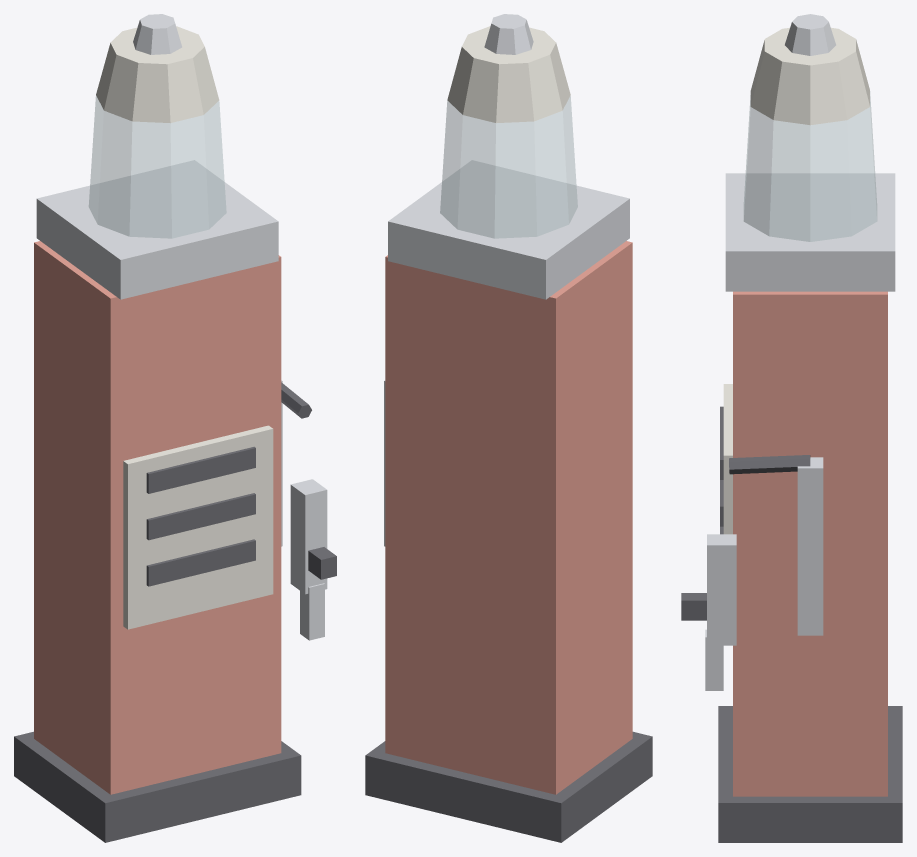
File: retro-diner-and-roadside-motel-period-fuel-pump-e5272bb8__37365.glb
3 views of the same model, side by side, from view 1: azimuth 30°, elevation 25°; view 2: azimuth 150°, elevation 25°; view 3: azimuth 270°, elevation 25° (orthographic).
Visible parts, largest first — view 1: period-fuel-pump-coral, period-fuel-pump-cream, period-fuel-pump-chrome, period-fuel-pump-asphalt, period-fuel-pump-glass, nozzle/chrome, nozzle/asphalt; view 2: period-fuel-pump-coral, period-fuel-pump-chrome, period-fuel-pump-glass, period-fuel-pump-asphalt, period-fuel-pump-cream; view 3: period-fuel-pump-coral, period-fuel-pump-chrome, period-fuel-pump-glass, period-fuel-pump-asphalt, period-fuel-pump-cream, nozzle/chrome, nozzle/asphalt.
Part boxes in pixels (x1=…): period-fuel-pump-coral: x1=34, y1=241, x2=281, y2=794; period-fuel-pump-cream: x1=96, y1=26, x2=273, y2=629; period-fuel-pump-chrome: x1=36, y1=14, x2=282, y2=546; period-fuel-pump-asphalt: x1=14, y1=382, x2=311, y2=842; period-fuel-pump-glass: x1=89, y1=96, x2=226, y2=238; nozzle/chrome: x1=290, y1=479, x2=327, y2=640; nozzle/asphalt: x1=308, y1=547, x2=336, y2=579; period-fuel-pump-coral: x1=385, y1=241, x2=632, y2=794; period-fuel-pump-chrome: x1=384, y1=14, x2=629, y2=546; period-fuel-pump-glass: x1=440, y1=96, x2=577, y2=238; period-fuel-pump-asphalt: x1=365, y1=731, x2=652, y2=842; period-fuel-pump-cream: x1=447, y1=26, x2=570, y2=123; period-fuel-pump-coral: x1=733, y1=291, x2=887, y2=796; period-fuel-pump-chrome: x1=725, y1=14, x2=895, y2=635; period-fuel-pump-glass: x1=744, y1=96, x2=876, y2=241; period-fuel-pump-asphalt: x1=718, y1=406, x2=902, y2=842; period-fuel-pump-cream: x1=723, y1=27, x2=869, y2=534; nozzle/chrome: x1=705, y1=534, x2=736, y2=690; nozzle/asphalt: x1=681, y1=593, x2=706, y2=620.
Size of the model in its own units: 0.685 by 2.31 by 0.6.
